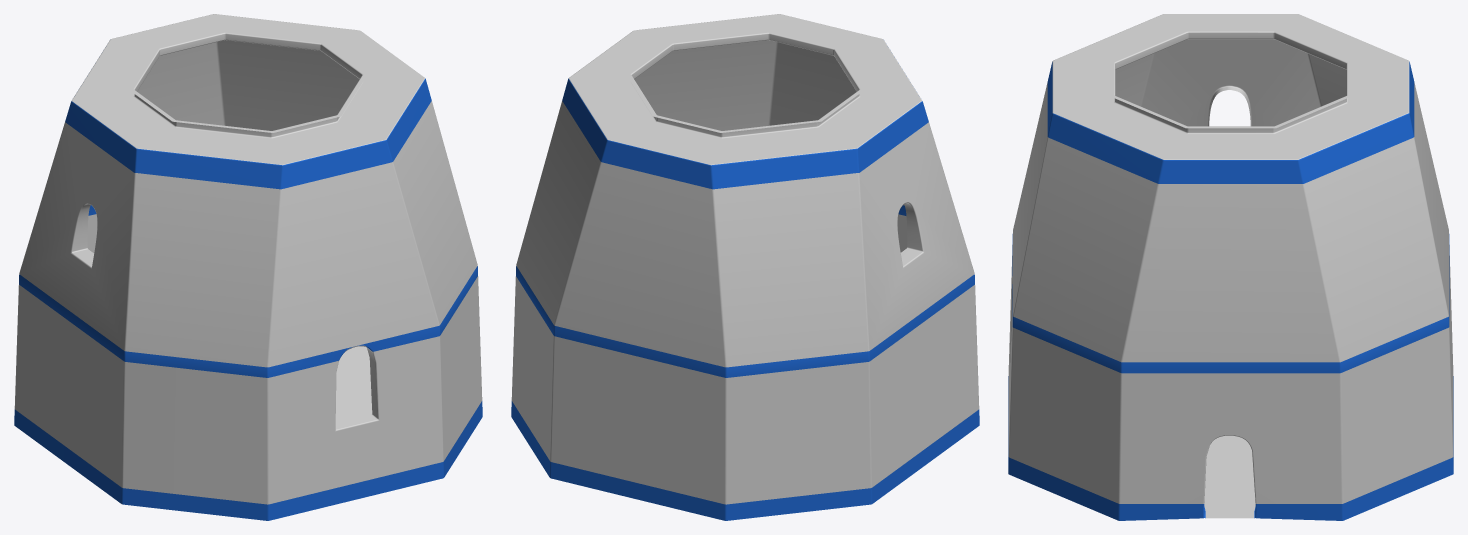
The model's file is SM_Tower_Base_Basic.fbx.
3 views of the same model, side by side, from view 1: azimuth 30°, elevation 25°; view 2: azimuth 150°, elevation 25°; view 3: azimuth 270°, elevation 25° (orthographic). The views are drawn at different scales.
Parts seen in each view (by area): view 1: SM_Tower_Base_Basic; view 2: SM_Tower_Base_Basic; view 3: SM_Tower_Base_Basic.
Boxes of the visible parts, x1=… form: SM_Tower_Base_Basic: x1=14, y1=14, x2=482, y2=520; SM_Tower_Base_Basic: x1=511, y1=14, x2=979, y2=520; SM_Tower_Base_Basic: x1=1008, y1=14, x2=1453, y2=520.
Size of the model in its own units: 1105 by 992 by 1141.
